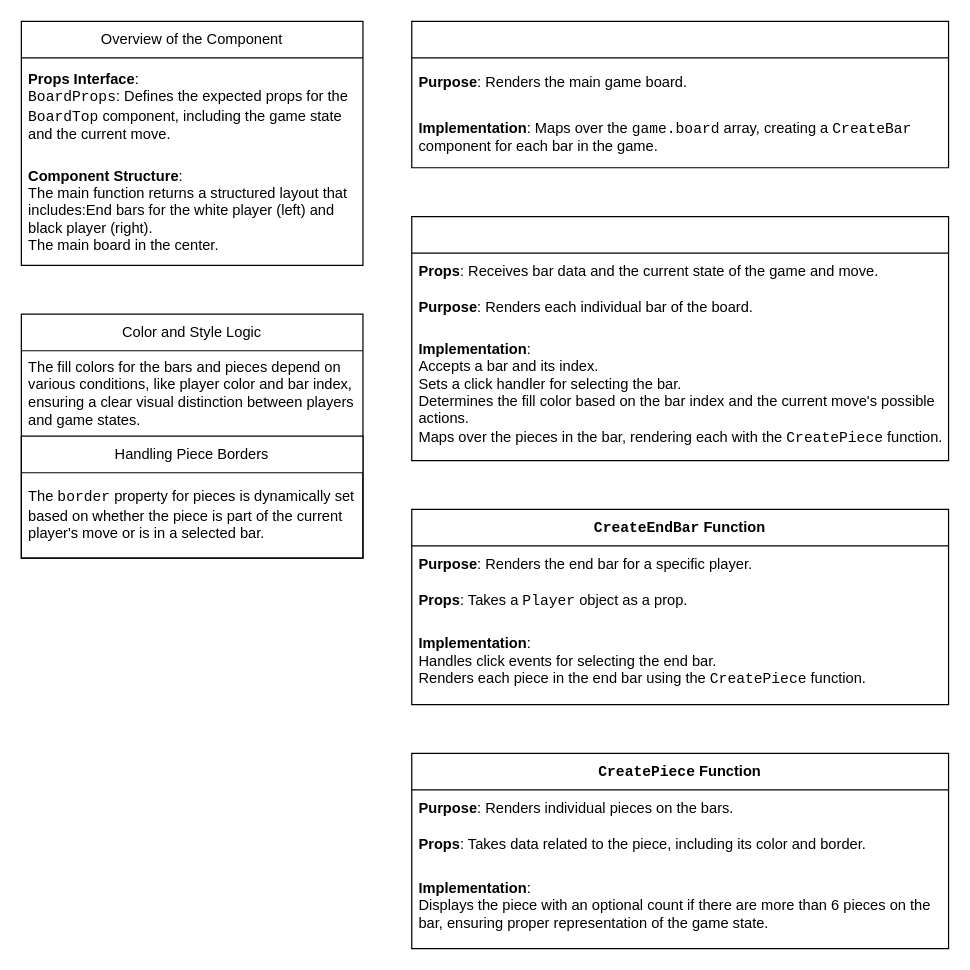
This 970x970 diagram has some shape labels left out. The shapes that lost their labels are listed below. From the top down, each one's box as (x1, y1, x2, y2) in pixels, then its label:
(411, 20, 949, 168): CreateBoard Function
(411, 215, 949, 461): CreateBar Function
